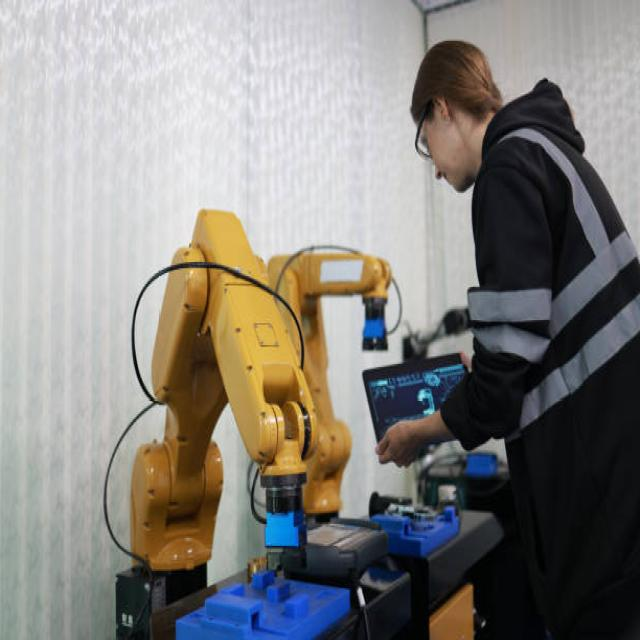Robotic-arm: (117, 200, 313, 580), (270, 243, 394, 507)
